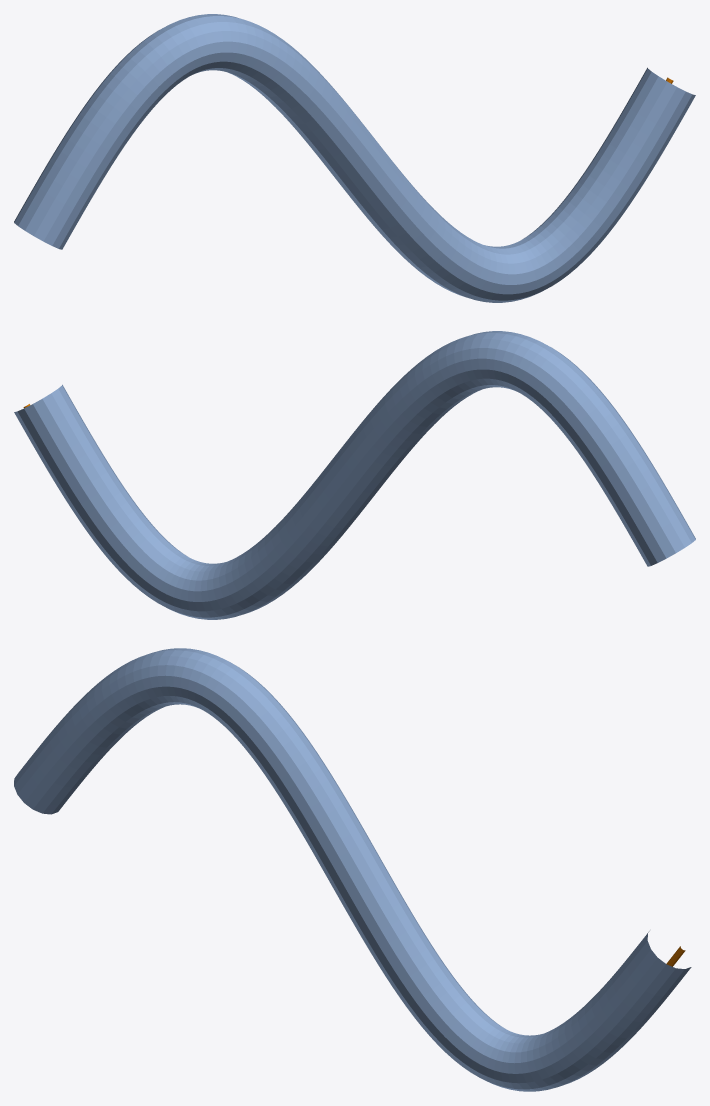
Rendered from 1_A60025772_simple_curve.glb.
3 renders of one model, top to bottom at view 1: azimuth 30°, elevation 25°; view 2: azimuth 150°, elevation 25°; view 3: azimuth 330°, elevation 25°, orthographic.
Parts seen in each view (by area): view 1: world; view 2: world; view 3: world.
Boxes of the visible parts, x1,y1,x2,y2 form: world: [14, 14, 695, 302]; world: [14, 331, 695, 619]; world: [14, 648, 691, 1091].
Bounding box in the file's own units: 276 × 140 × 20.
